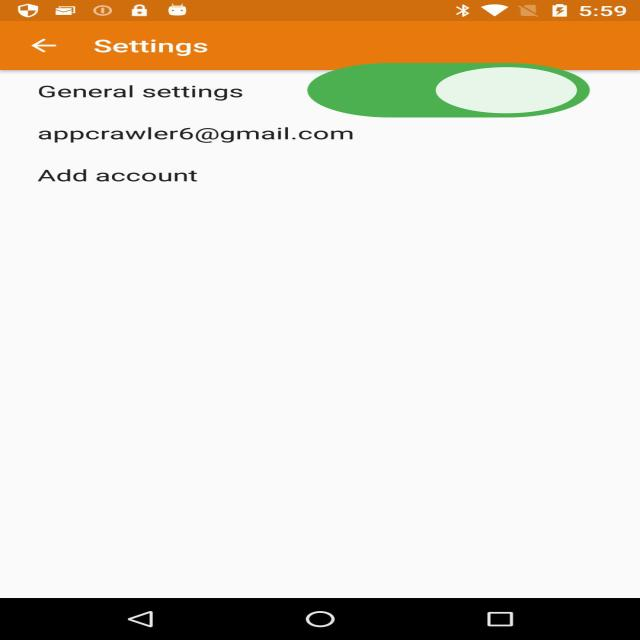social proof: (294, 42, 602, 143)
